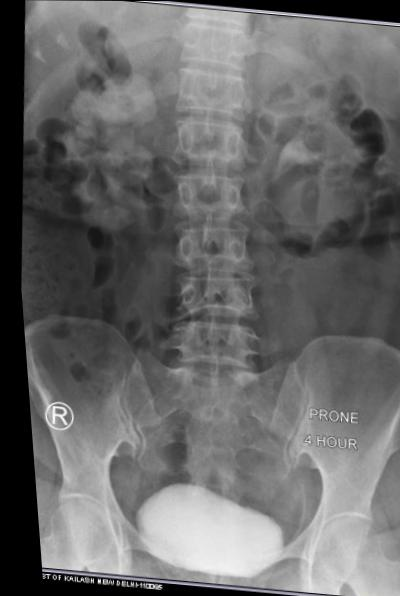bladder: (106, 475, 300, 594)
right kidney: (46, 58, 175, 244)
vertebrae: (169, 108, 255, 168)
